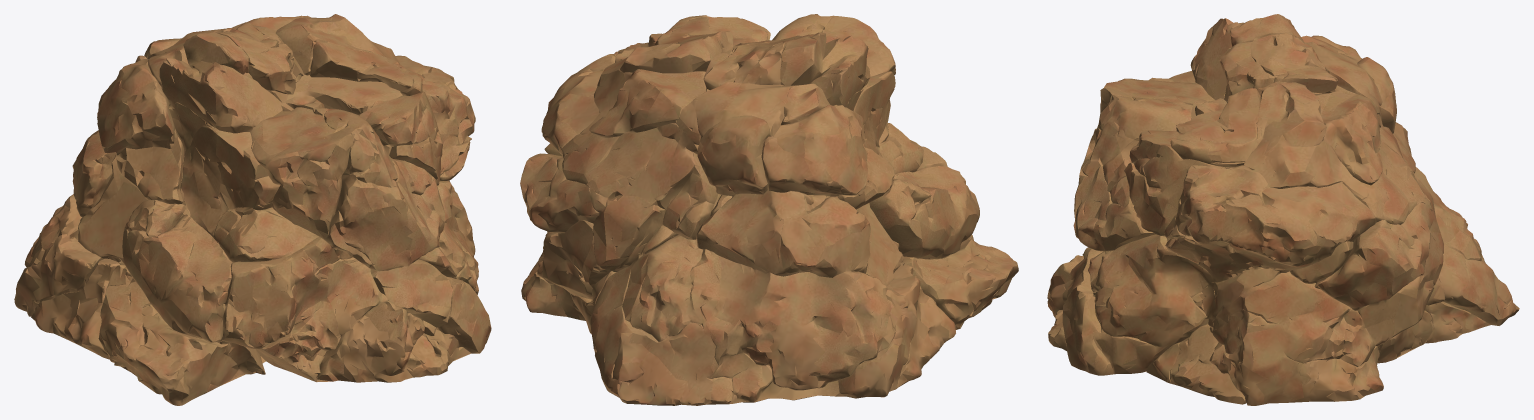
Rendered from sandstone-pbr.glb.
3 views of the same model, side by side, from view 1: azimuth 30°, elevation 25°; view 2: azimuth 150°, elevation 25°; view 3: azimuth 270°, elevation 25° (orthographic). The views are drawn at different scales.
Bounding box in the file's own units: 1.76 × 1.2 × 1.9.
1 material, 1 textured.
